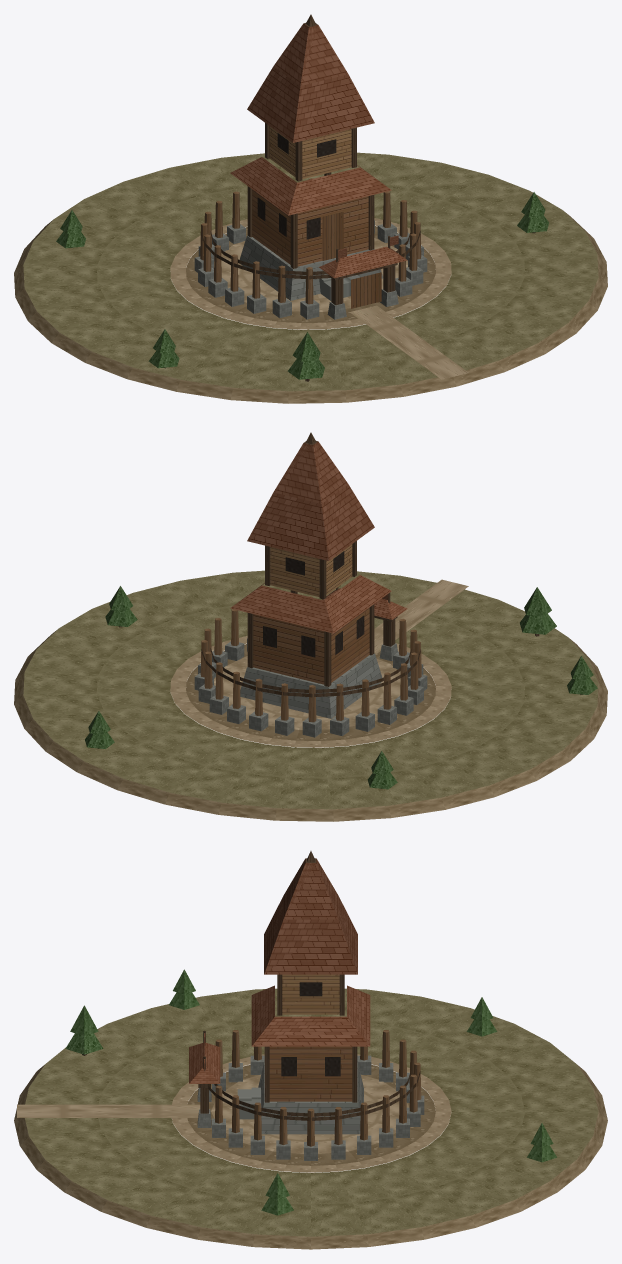
File: keep_small_lod1.glb
3 renders of one model, top to bottom at view 1: azimuth 30°, elevation 25°; view 2: azimuth 150°, elevation 25°; view 3: azimuth 270°, elevation 25°, orthographic.
Visible parts, largest first — view 1: keep_small_lod1; view 2: keep_small_lod1; view 3: keep_small_lod1.
Part boxes in pixels (x1,y1,x2,y2): keep_small_lod1: (14, 14, 607, 403); keep_small_lod1: (14, 432, 607, 821); keep_small_lod1: (14, 851, 607, 1249).
Bounding box in the file's own units: 1.89 × 0.9261 × 1.84.
Materials: 1 (1 with a texture image).
